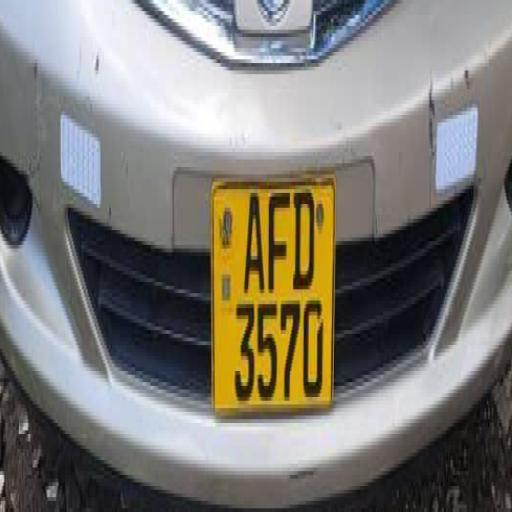number-plates: (213, 182, 327, 404)
